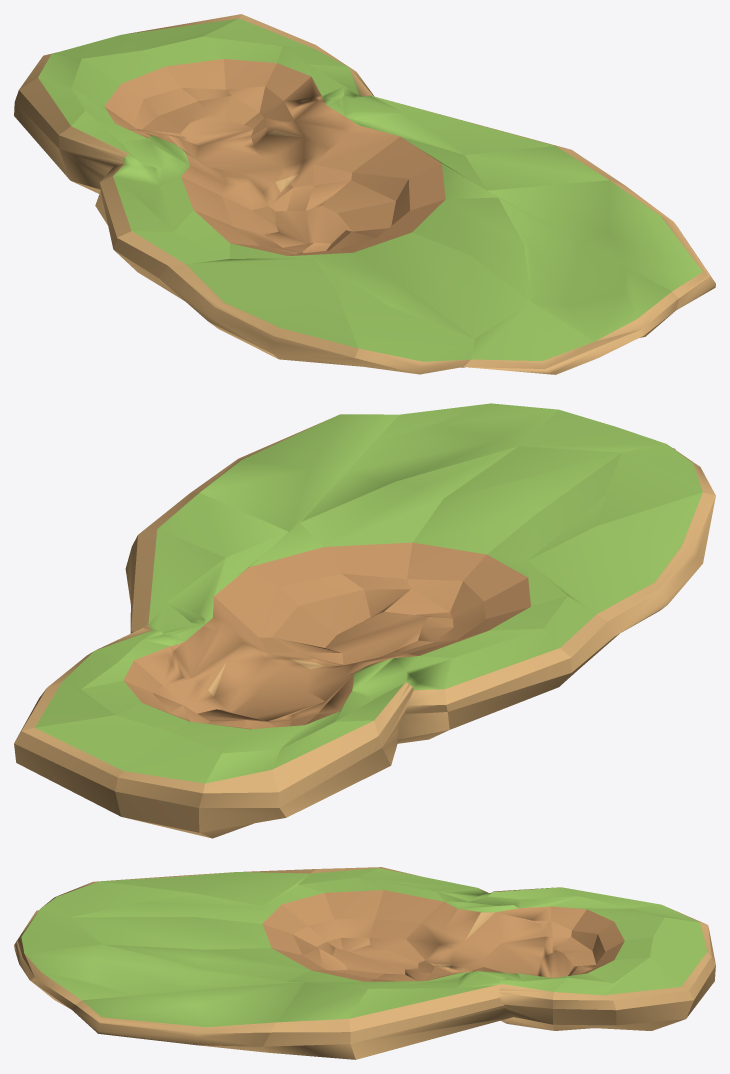
File: Island 1.fbx
3 renders of one model, top to bottom at view 1: azimuth 30°, elevation 25°; view 2: azimuth 150°, elevation 25°; view 3: azimuth 270°, elevation 25°, orthographic. The views are drawn at different scales.
Parts seen in each view (by area): view 1: Plane_004.002; view 2: Plane_004.002; view 3: Plane_004.002.
Boxes of the visible parts, left/top/right/bottom form: Plane_004.002: left=14, top=14, right=715, bottom=374; Plane_004.002: left=14, top=403, right=715, bottom=838; Plane_004.002: left=14, top=867, right=715, bottom=1059.
Bounding box in the file's own units: 2183 × 508 × 3890.
